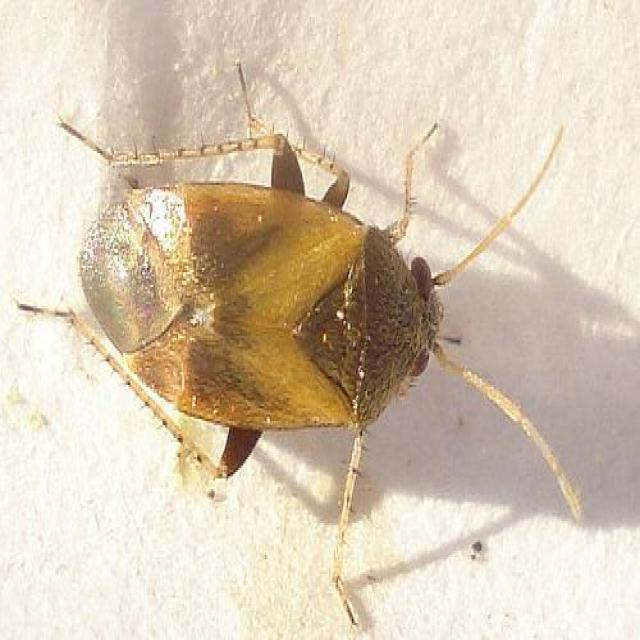Miridae-Adult-: (28, 59, 576, 564)
